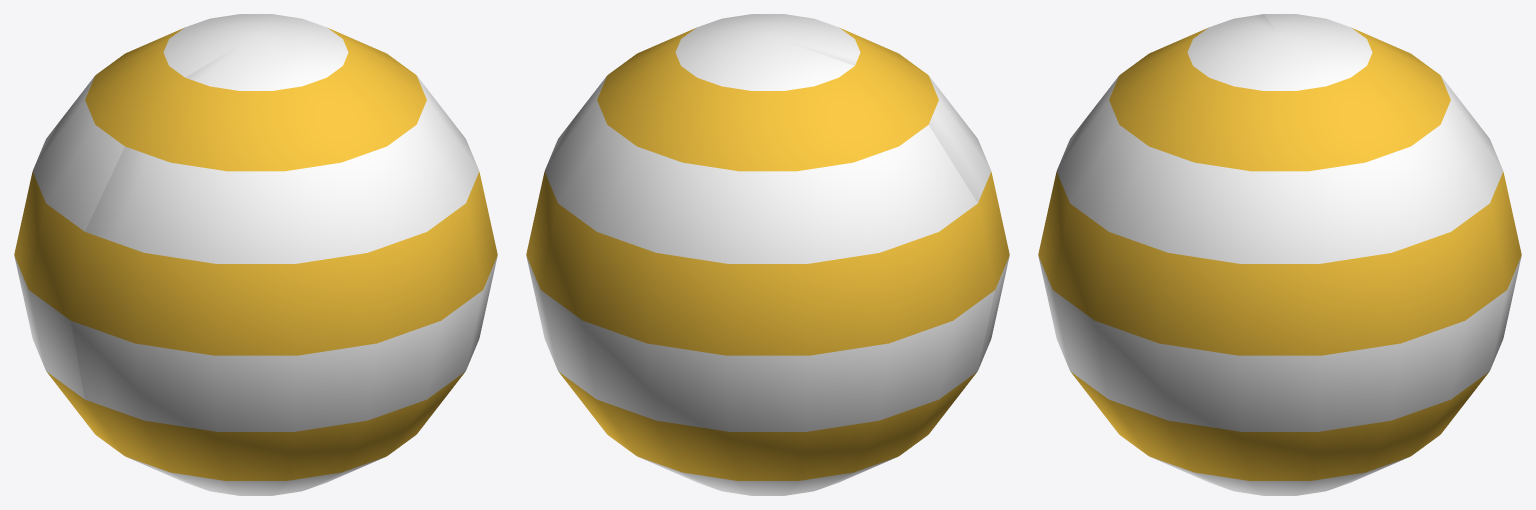
The model's file is Prop_Ball_01.fbx.
3 views of the same model, side by side, from view 1: azimuth 30°, elevation 25°; view 2: azimuth 150°, elevation 25°; view 3: azimuth 270°, elevation 25° (orthographic).
Parts seen in each view (by area): view 1: Prop_Ball_01; view 2: Prop_Ball_01; view 3: Prop_Ball_01.
Boxes of the visible parts, left/top/right/bottom form: Prop_Ball_01: left=14, top=14, right=497, bottom=495; Prop_Ball_01: left=526, top=14, right=1009, bottom=495; Prop_Ball_01: left=1038, top=14, right=1521, bottom=495.
Bounding box in the file's own units: 42.77 × 43.43 × 43.43.
